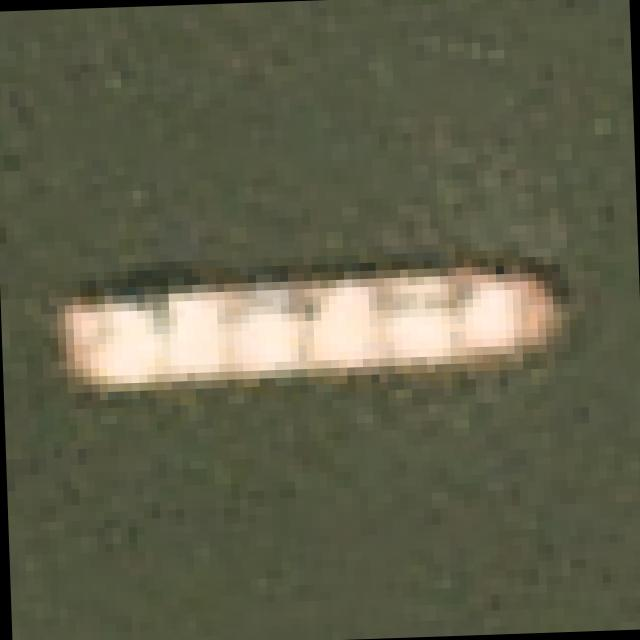ship: (34, 220, 611, 448)
